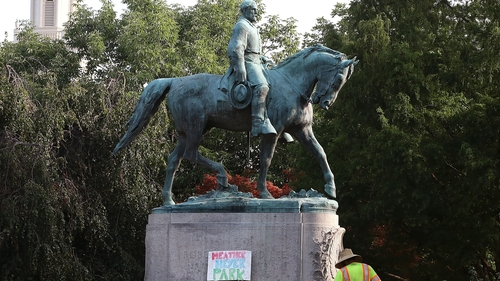person-like: (229, 2, 285, 200)
